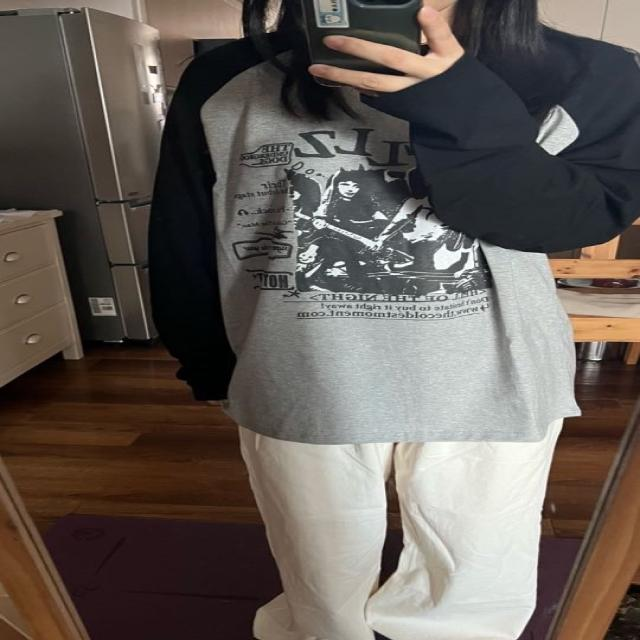cottonpants: (237, 419, 563, 640)
longsleeve: (143, 19, 640, 446)
